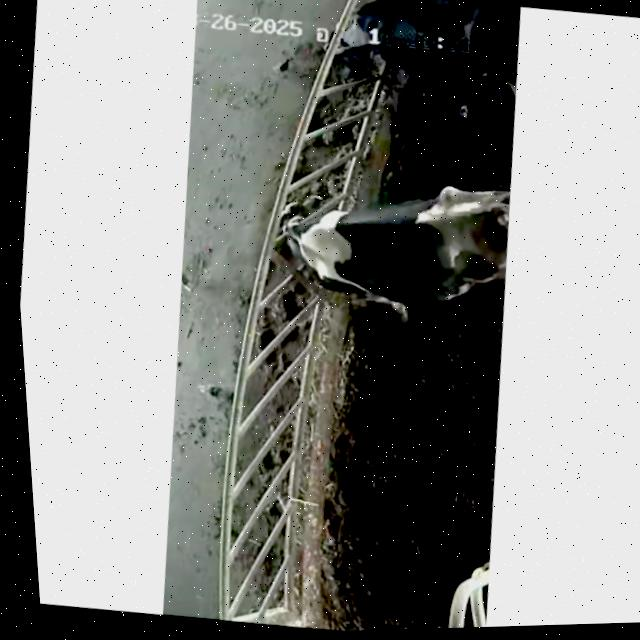eat: (247, 184, 383, 302), (307, 0, 446, 94)
